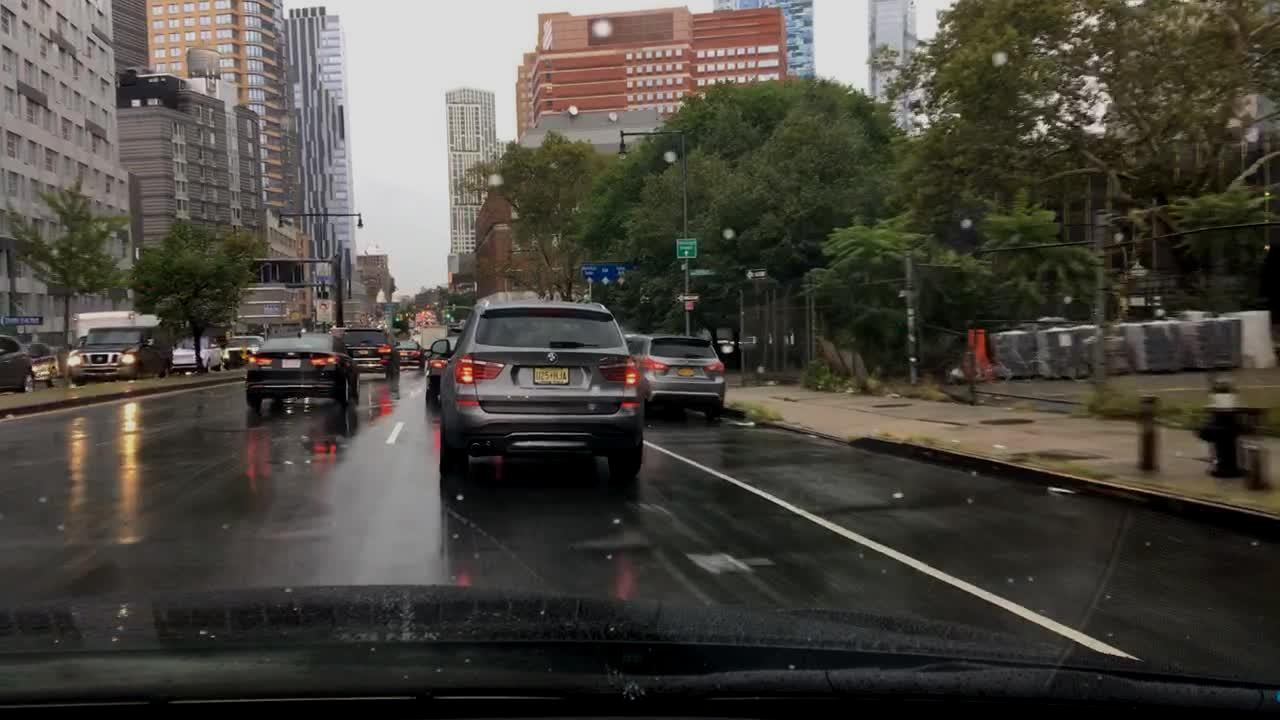bmw: (545, 349, 559, 366)
